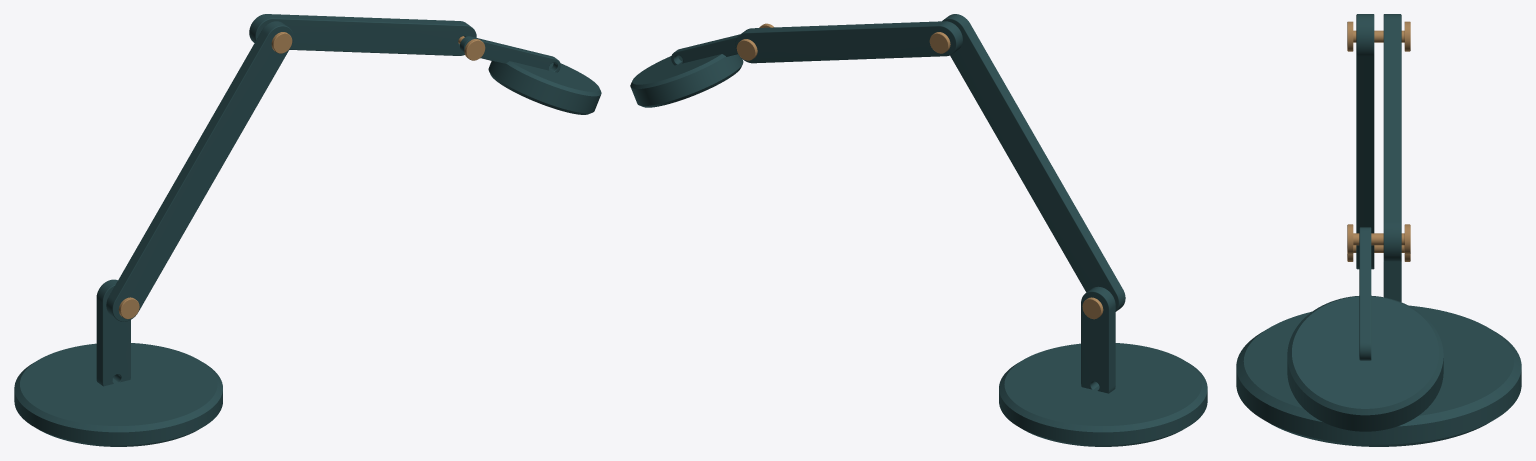
The picture shows the model from 3 angles, left to right: view 1: azimuth 30°, elevation 25°; view 2: azimuth 150°, elevation 25°; view 3: azimuth 270°, elevation 25°; orthographic projection. The views are drawn at different scales.
Parts seen in each view (by area): view 1: Base body, Lower arm, Upper arm, Head housing, Fixed upright, Head neck; view 2: Base body, Lower arm, Upper arm, Head housing, Fixed upright, Head neck; view 3: Head housing, Base body, Upper arm, Lower arm, Head neck, Fixed upright, Head axle.
Boxes of the visible parts, x1=… form: Base body: x1=14, y1=343, x2=222, y2=446; Lower arm: x1=106, y1=21, x2=293, y2=321; Upper arm: x1=249, y1=14, x2=476, y2=55; Head housing: x1=488, y1=61, x2=601, y2=114; Fixed upright: x1=96, y1=279, x2=130, y2=386; Head neck: x1=460, y1=36, x2=560, y2=72; Base body: x1=999, y1=343, x2=1207, y2=446; Lower arm: x1=942, y1=14, x2=1125, y2=311; Upper arm: x1=735, y1=21, x2=962, y2=63; Head housing: x1=630, y1=54, x2=743, y2=107; Fixed upright: x1=1081, y1=286, x2=1115, y2=393; Head neck: x1=671, y1=34, x2=739, y2=65; Head housing: x1=1287, y1=295, x2=1443, y2=431; Base body: x1=1236, y1=305, x2=1521, y2=446; Upper arm: x1=1383, y1=14, x2=1401, y2=261; Lower arm: x1=1356, y1=14, x2=1374, y2=269; Head neck: x1=1359, y1=227, x2=1371, y2=360; Fixed upright: x1=1383, y1=261, x2=1401, y2=302; Head axle: x1=1353, y1=233, x2=1404, y2=245.
Bounding box in the file's own units: 0.5887 × 0.3544 × 0.19.
